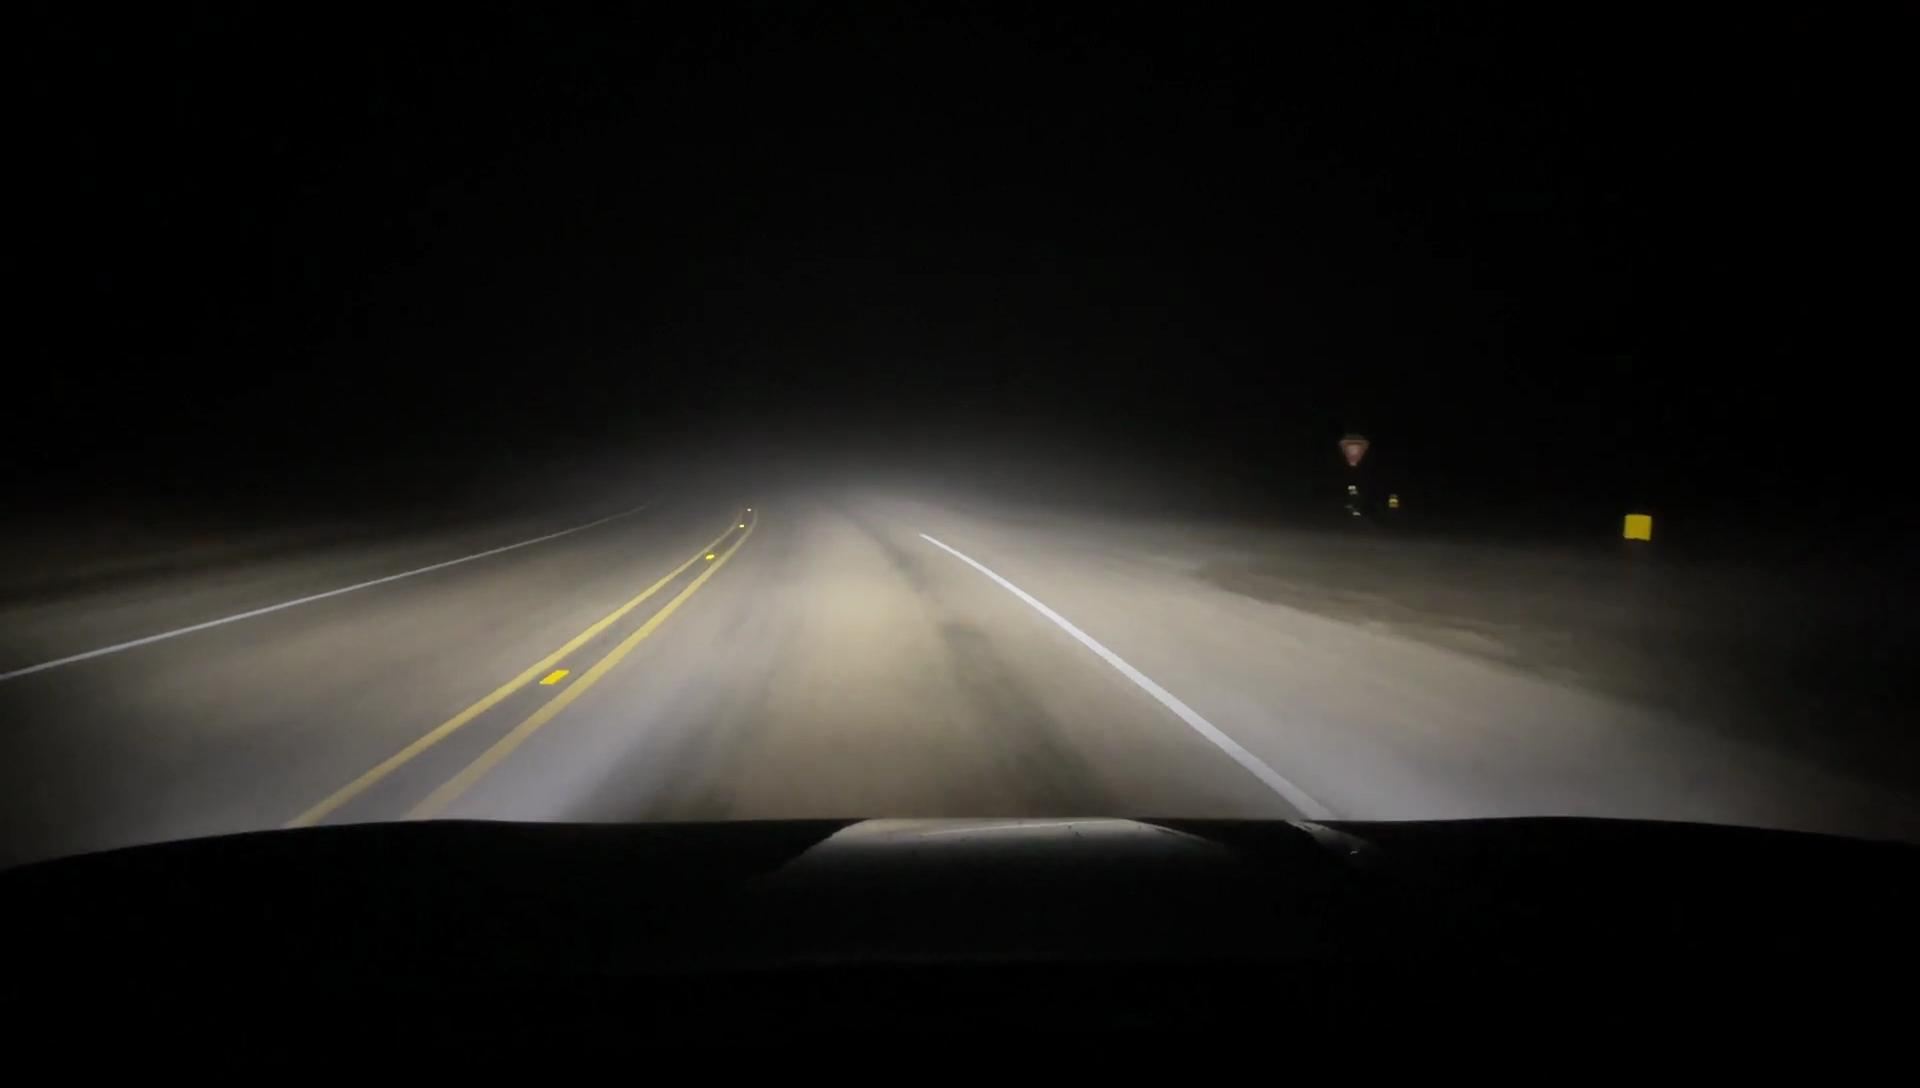road-lanes: (423, 505, 1300, 818)
